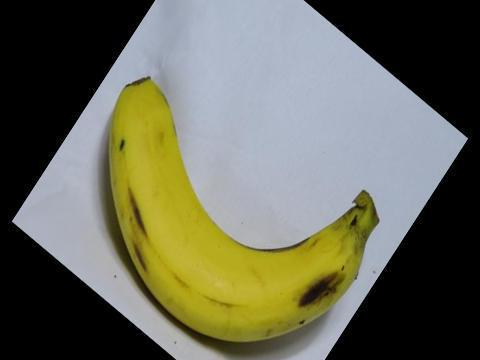freshripe: (98, 67, 381, 359)
